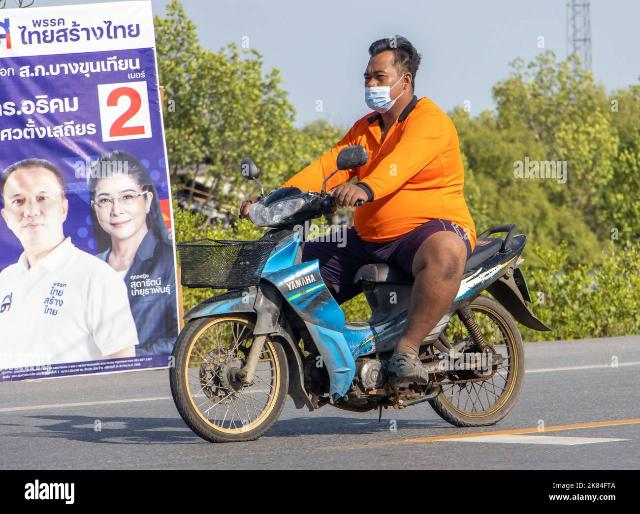motor: (170, 143, 554, 449)
non-helm: (365, 38, 423, 114)
